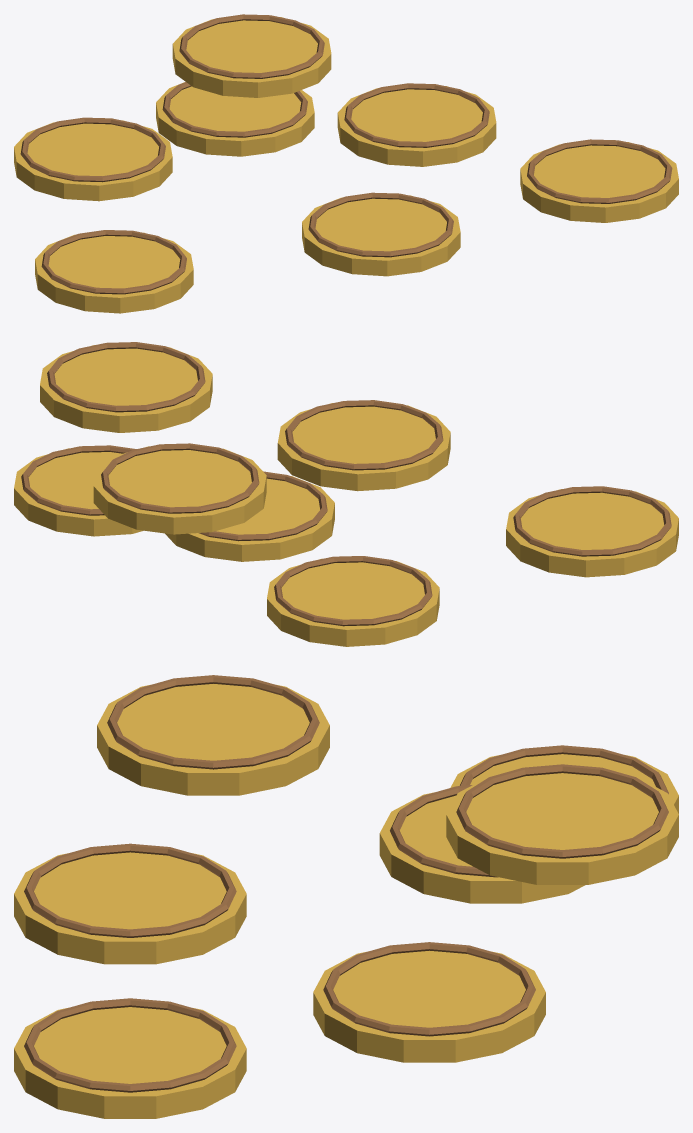
Rendered from coinScatter.glb.
3 views of the same model, one above another, from view 1: azimuth 30°, elevation 25°; view 2: azimuth 150°, elevation 25°; view 3: azimuth 270°, elevation 25° (orthographic). The views are drawn at different scales.
Visible parts, largest first — view 1: decorative_coin_3, decorative_coin_6, decorative_coin_0, decorative_coin_4, decorative_coin_2, decorative_coin_1, decorative_coin_5, coin_rim_3, coin_rim_4, coin_rim_6, coin_rim_1, coin_rim_2 (+2 smaller); view 2: decorative_coin_2, decorative_coin_6, decorative_coin_1, decorative_coin_4, decorative_coin_0, decorative_coin_5, decorative_coin_3, coin_rim_6, coin_rim_0, coin_rim_2, coin_rim_4, coin_rim_1 (+2 smaller); view 3: decorative_coin_2, decorative_coin_0, decorative_coin_3, decorative_coin_4, decorative_coin_6, decorative_coin_5, coin_rim_4, coin_rim_0, coin_rim_3, coin_rim_6, coin_rim_2, decorative_coin_1 (+2 smaller).
Boxes of the visible parts, bbox=[...] form: decorative_coin_3: bbox=[337, 86, 496, 166]; decorative_coin_6: bbox=[172, 17, 331, 97]; decorative_coin_0: bbox=[35, 232, 193, 313]; decorative_coin_4: bbox=[520, 142, 678, 222]; decorative_coin_2: bbox=[302, 195, 460, 276]; decorative_coin_1: bbox=[14, 120, 172, 201]; decorative_coin_5: bbox=[156, 82, 314, 156]; coin_rim_3: bbox=[344, 83, 489, 147]; coin_rim_4: bbox=[527, 139, 672, 203]; coin_rim_6: bbox=[179, 14, 324, 78]; coin_rim_1: bbox=[20, 117, 165, 182]; coin_rim_2: bbox=[308, 192, 453, 257]; decorative_coin_2: bbox=[277, 403, 450, 491]; decorative_coin_6: bbox=[93, 446, 266, 534]; decorative_coin_1: bbox=[267, 558, 439, 646]; decorative_coin_4: bbox=[40, 345, 212, 432]; decorative_coin_0: bbox=[506, 489, 678, 577]; decorative_coin_5: bbox=[165, 476, 334, 561]; decorative_coin_3: bbox=[14, 448, 143, 536]; coin_rim_6: bbox=[101, 443, 259, 513]; coin_rim_0: bbox=[513, 486, 671, 556]; coin_rim_2: bbox=[285, 400, 443, 470]; coin_rim_4: bbox=[47, 342, 205, 412]; coin_rim_1: bbox=[274, 556, 432, 626]; decorative_coin_2: bbox=[14, 852, 246, 964]; decorative_coin_0: bbox=[97, 684, 329, 795]; decorative_coin_3: bbox=[313, 950, 545, 1062]; decorative_coin_4: bbox=[14, 1007, 246, 1118]; decorative_coin_6: bbox=[446, 773, 678, 884]; decorative_coin_5: bbox=[379, 792, 585, 903]; coin_rim_4: bbox=[24, 998, 236, 1092]; coin_rim_0: bbox=[107, 675, 319, 769]; coin_rim_3: bbox=[323, 942, 535, 1036]; coin_rim_6: bbox=[456, 764, 668, 858]; coin_rim_2: bbox=[24, 843, 236, 937]; decorative_coin_1: bbox=[450, 754, 678, 813].
Bounding box in the file's own units: 0.5965 × 0.0811 × 0.4.
